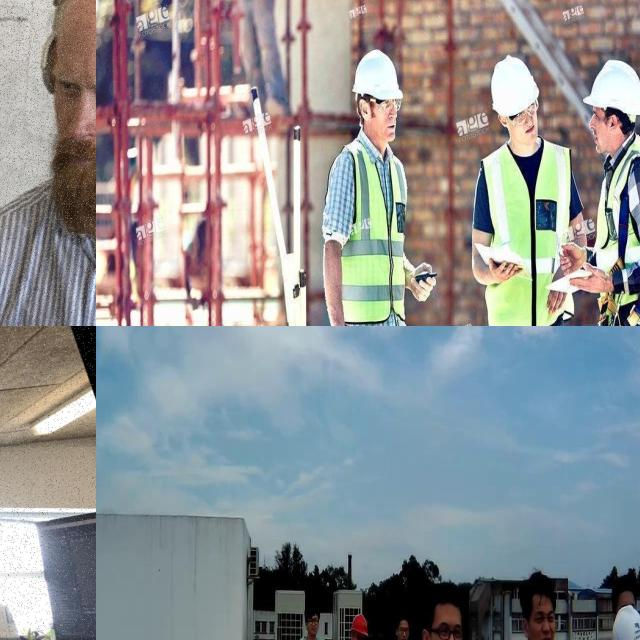Ear-protection: (16, 0, 96, 237)
No_Ear-Protection: (420, 573, 463, 640), (519, 565, 556, 640), (608, 606, 640, 640), (303, 600, 323, 640), (392, 610, 412, 640)
face_nomask: (366, 95, 399, 143), (508, 102, 543, 144), (586, 106, 611, 150)
glasses: (508, 95, 539, 126), (370, 95, 402, 114)
hand_noglove: (572, 262, 612, 296), (488, 252, 524, 286), (558, 236, 588, 276), (407, 266, 437, 305), (545, 275, 567, 314)
head_helmet: (581, 56, 640, 114), (487, 56, 543, 110), (348, 50, 405, 100)
person: (483, 55, 577, 326), (334, 53, 407, 326), (583, 57, 640, 326)
vest: (490, 147, 565, 315), (337, 149, 403, 325), (597, 159, 640, 301)
